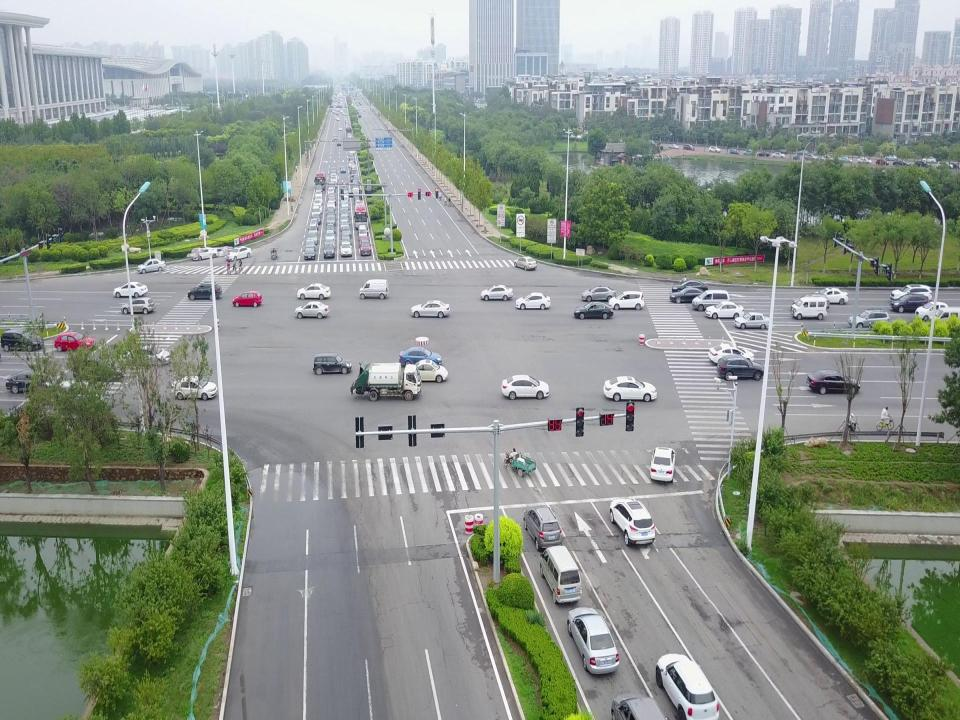bus: (354, 203, 368, 230), (314, 170, 326, 191)
car: (655, 653, 719, 720), (567, 606, 619, 674), (609, 498, 655, 547), (523, 504, 563, 551), (610, 691, 668, 720), (602, 375, 658, 402), (72, 356, 126, 382), (501, 373, 550, 401), (806, 369, 860, 394), (716, 354, 764, 381), (170, 375, 218, 401), (6, 369, 54, 394), (127, 344, 173, 368), (707, 343, 755, 365), (649, 446, 677, 483), (406, 359, 449, 383), (1, 329, 44, 352), (398, 346, 442, 368), (846, 308, 890, 330), (312, 352, 352, 375), (888, 293, 934, 313), (54, 331, 96, 352), (889, 284, 933, 304), (573, 301, 615, 320), (607, 290, 645, 311), (410, 299, 450, 318), (186, 281, 222, 301), (704, 301, 744, 319), (915, 301, 949, 322), (672, 279, 710, 297), (669, 287, 709, 304), (790, 292, 830, 309), (120, 296, 156, 314), (294, 301, 330, 319), (515, 292, 551, 310), (734, 312, 770, 330), (112, 281, 148, 298), (296, 283, 332, 300), (480, 284, 514, 302), (813, 287, 849, 304), (581, 286, 617, 302), (232, 290, 263, 307), (136, 258, 166, 275), (224, 246, 252, 261), (191, 246, 217, 261), (513, 255, 537, 271), (322, 242, 336, 259), (359, 240, 372, 256), (340, 240, 352, 256), (304, 245, 316, 260), (359, 235, 371, 250), (358, 224, 368, 242), (308, 221, 318, 238), (306, 230, 318, 244), (340, 233, 352, 246), (341, 224, 351, 239), (304, 240, 316, 252), (324, 230, 336, 242), (339, 219, 351, 231), (913, 159, 929, 168), (936, 161, 954, 169), (325, 223, 336, 236), (892, 160, 909, 168), (324, 238, 335, 250), (311, 205, 321, 218), (326, 214, 336, 227), (354, 199, 364, 212), (836, 156, 852, 164), (856, 157, 872, 165), (312, 213, 322, 225), (326, 209, 336, 221), (327, 194, 337, 206), (708, 145, 721, 154), (742, 149, 756, 157), (772, 150, 786, 158), (803, 153, 817, 161), (820, 155, 834, 163), (875, 158, 889, 166), (922, 156, 936, 164), (326, 200, 336, 211), (339, 208, 349, 219), (313, 202, 322, 214), (884, 153, 897, 161), (313, 184, 323, 194), (340, 214, 350, 224), (340, 194, 350, 204), (314, 193, 323, 204), (756, 151, 770, 158), (328, 181, 336, 193), (340, 183, 348, 195), (314, 188, 323, 198), (326, 206, 336, 215), (327, 192, 337, 201), (340, 199, 349, 209), (310, 218, 318, 229), (312, 198, 322, 206), (327, 186, 335, 196), (329, 179, 337, 189), (339, 205, 349, 213), (352, 187, 360, 197), (668, 143, 679, 150), (329, 175, 337, 184), (330, 166, 338, 175), (354, 194, 360, 206), (729, 148, 739, 155), (351, 184, 359, 192), (351, 179, 359, 187), (352, 175, 360, 183), (330, 173, 338, 180), (340, 165, 346, 173)
truck: (350, 360, 422, 400)
van: (540, 545, 582, 604), (790, 295, 828, 320), (692, 288, 730, 310), (930, 305, 960, 330), (359, 278, 389, 299), (683, 143, 695, 152)
